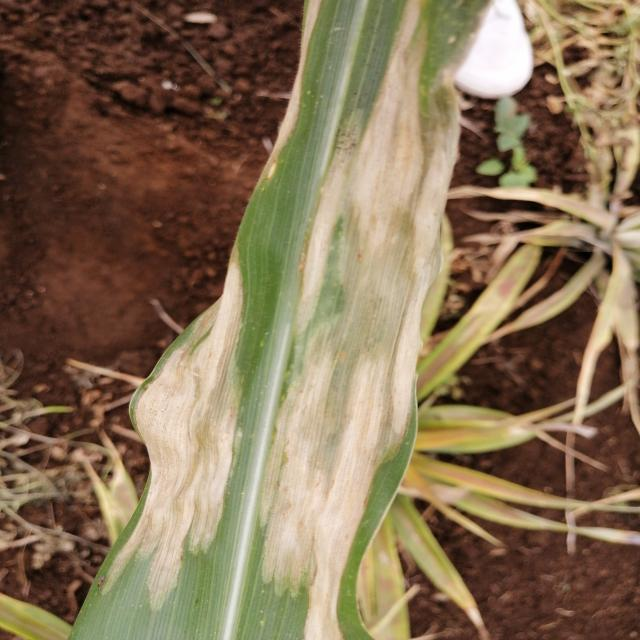Corn_Leaf_Blight: (122, 0, 462, 627)
